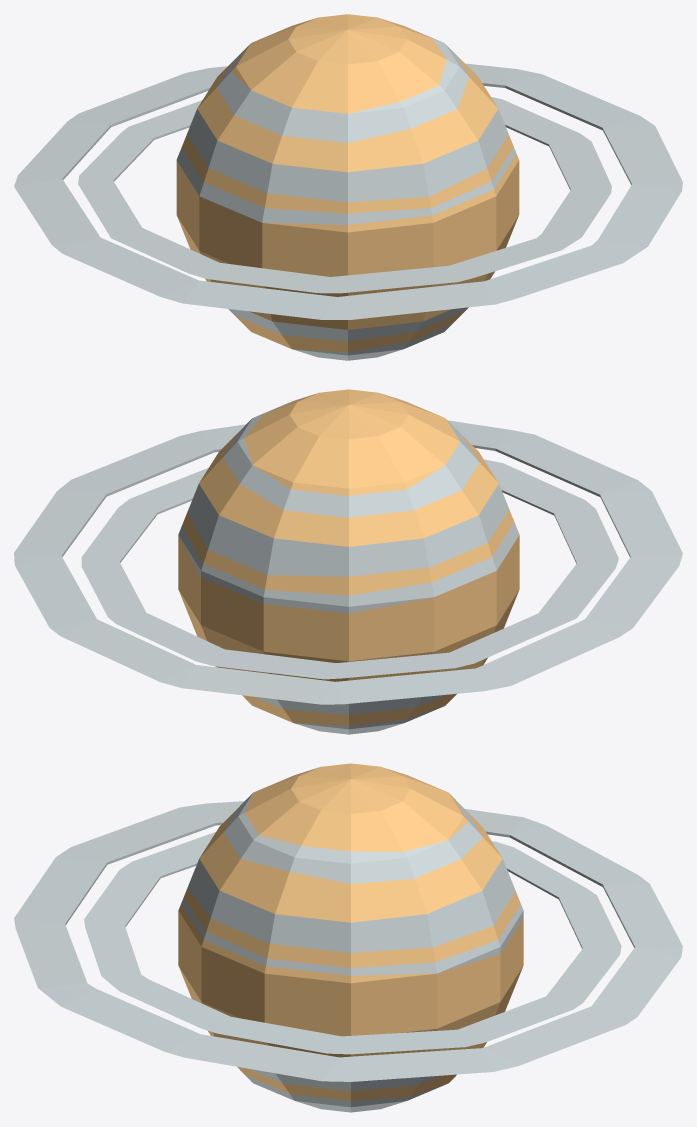
Rendered from saturn.glb.
3 views of the same model, one above another, from view 1: azimuth 30°, elevation 25°; view 2: azimuth 150°, elevation 25°; view 3: azimuth 270°, elevation 25° (orthographic).
Visible parts, largest first — view 1: group646701568, group2013386449, group292618952; view 2: group646701568, group2013386449, group292618952; view 3: group646701568, group2013386449, group292618952.
Boxes of the visible parts, box(x1,y1,x2,y2) form: group646701568: box(176, 14, 519, 360); group2013386449: box(14, 63, 682, 319); group292618952: box(78, 97, 611, 293); group646701568: box(178, 389, 519, 734); group2013386449: box(14, 420, 682, 704); group292618952: box(81, 459, 618, 679); group646701568: box(178, 763, 523, 1112); group2013386449: box(14, 801, 682, 1081); group292618952: box(84, 832, 621, 1054).
Bounding box in the file's own units: 2.67 × 1.39 × 2.65.
